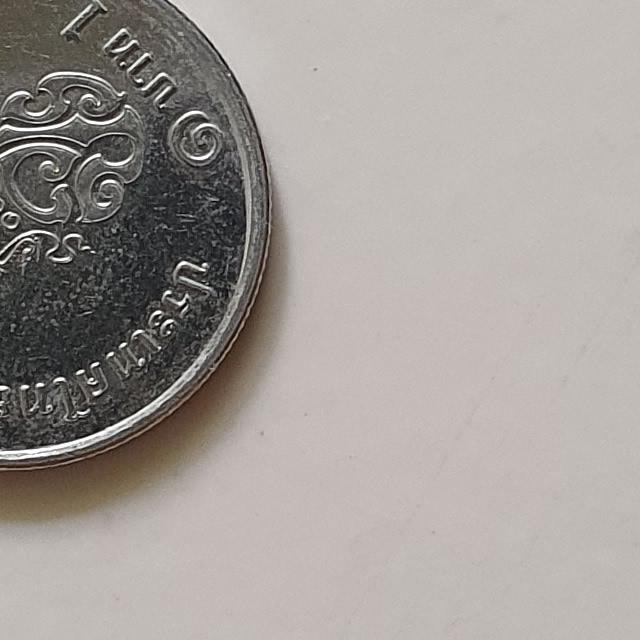1 Bath: (1, 1, 288, 477)
